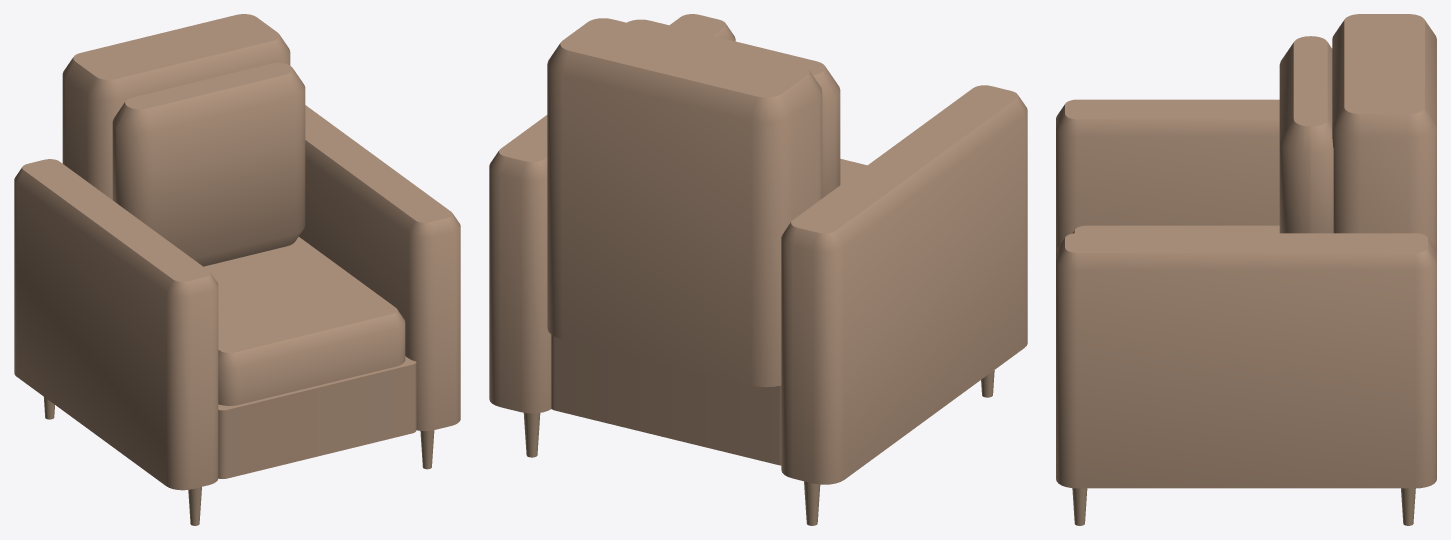
The picture shows the model from 3 angles, left to right: view 1: azimuth 30°, elevation 25°; view 2: azimuth 150°, elevation 25°; view 3: azimuth 270°, elevation 25°; orthographic projection. The views are drawn at different scales.
Parts seen in each view (by area): view 1: Ghế thư giãn Rộng=800; Sâu=820; view 2: Ghế thư giãn Rộng=800; Sâu=820; view 3: Ghế thư giãn Rộng=800; Sâu=820.
Boxes of the visible parts, x1,y1,x2,y2 form: Ghế thư giãn Rộng=800; Sâu=820: (14,14,460,525); Ghế thư giãn Rộng=800; Sâu=820: (489,14,1027,525); Ghế thư giãn Rộng=800; Sâu=820: (1056,14,1436,525).
Size of the model in its own units: 0.8 by 0.917 by 0.8.
